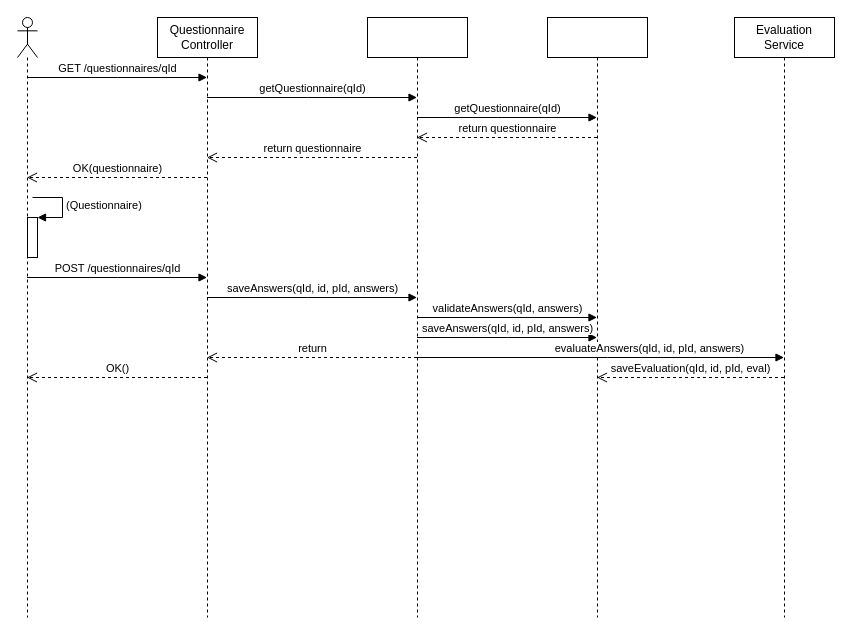
The diagram is 852 pixels wide and 635 high, and some of its shapes have lost their labels. Here are the shapes that lost their labels. From the top down, the box of each, then its label:
(366, 16, 468, 618): Questionnaire Service
(546, 16, 648, 618): Database
